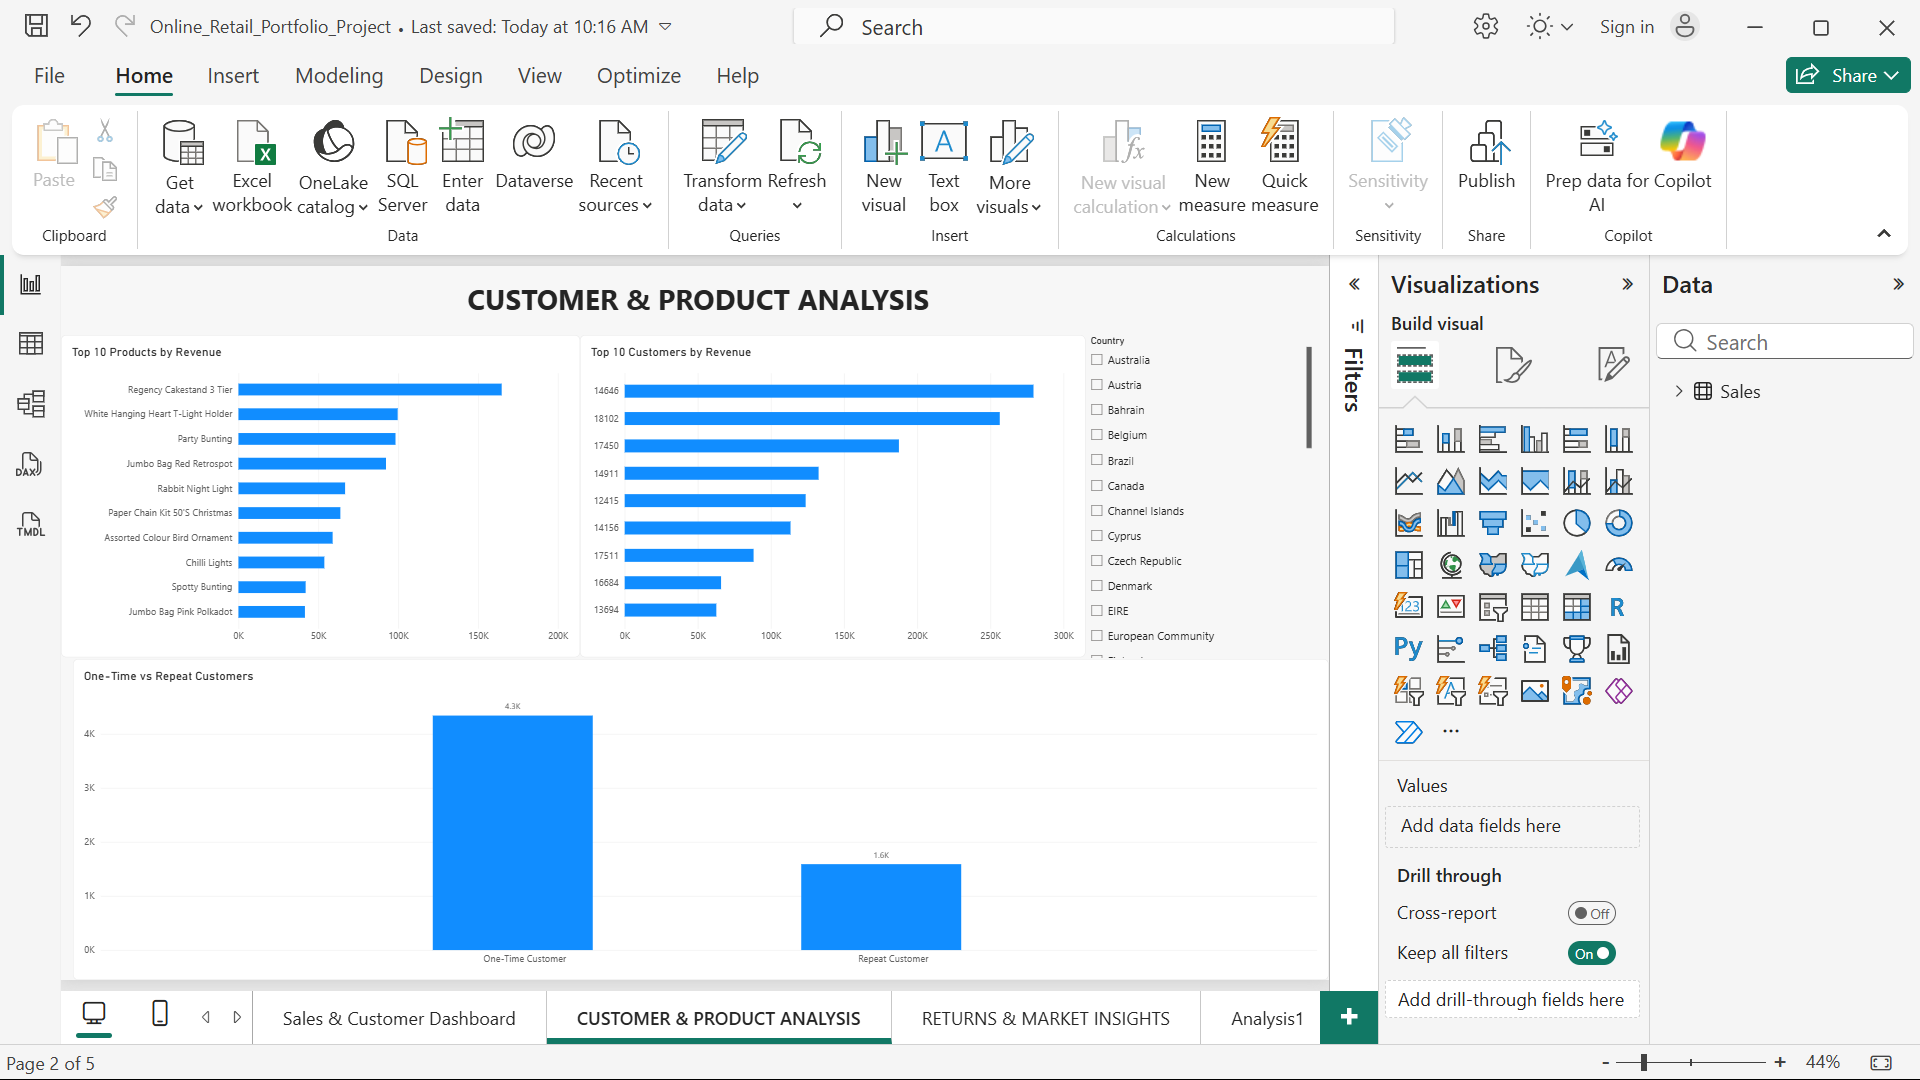

What the dashboard file says about the page in this screenshot:
{"tool":"powerbi","page":{"name":"CUSTOMER & PRODUCT ANALYSIS  ","canvas":[1920,1080],"ordinal":1},"visuals":[{"type":"clusteredBarChart","title":"Top 10 Products by Revenue","fields":{"Category":["Sales.Clean Description"],"Y":["Sales.Total Revenue"]},"box":[0,104.3,765.3,488.1],"z":0},{"type":"clusteredColumnChart","title":"One-Time vs Repeat Customers","fields":{"Category":["Sales.Customer Type"],"Y":["Sales.Customer Count"]},"box":[383.8,594.7,1011.7,485.7],"z":1000},{"type":"clusteredBarChart","title":"Top 10 Customers by Revenue","fields":{"Category":["Sales.CustomerID"],"Y":["Sales.Total Revenue"]},"box":[765.3,104.3,727.4,488.1],"z":2000},{"type":"textbox","box":[616,21.3,722.7,82.9],"z":3001},{"type":"slicer","fields":{"Values":["Sales.Country"]},"box":[1552,21.3,341.2,1035.4],"z":3002}]}

Visuals, with their boxes on the page's 1920x1080 design canvas (x1, y1, x2, y2). These are canvas units, not pixel positions in the 1920x1080 screenshot, which may show the page scaled, cropped or inside an application window:
"Top 10 Products by Revenue" clusteredBarChart: (x1=0, y1=104, x2=765, y2=592)
"One-Time vs Repeat Customers" clusteredColumnChart: (x1=384, y1=595, x2=1396, y2=1080)
"Top 10 Customers by Revenue" clusteredBarChart: (x1=765, y1=104, x2=1493, y2=592)
textbox: (x1=616, y1=21, x2=1339, y2=104)
slicer - Sales.Country: (x1=1552, y1=21, x2=1893, y2=1057)
